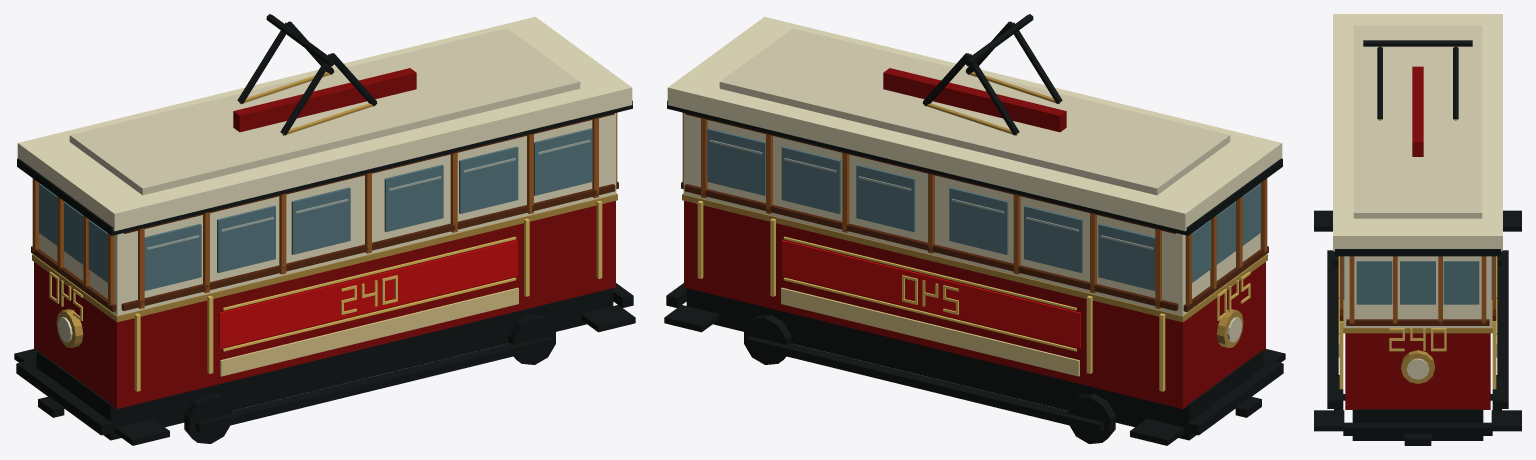
Rendered from Ringhoffer240.fbx.
The picture shows the model from 3 angles, left to right: view 1: azimuth 30°, elevation 25°; view 2: azimuth 150°, elevation 25°; view 3: azimuth 270°, elevation 25°; orthographic projection. The views are drawn at different scales.
Visible parts, largest first — view 1: Ringhoffer240; view 2: Ringhoffer240; view 3: Ringhoffer240.
Part boxes in pixels (x1,y1,x2,y2): Ringhoffer240: (14, 14, 635, 445); Ringhoffer240: (664, 14, 1285, 445); Ringhoffer240: (1314, 14, 1521, 445).
Bounding box in the file's own units: 30 × 17.38 × 11.
